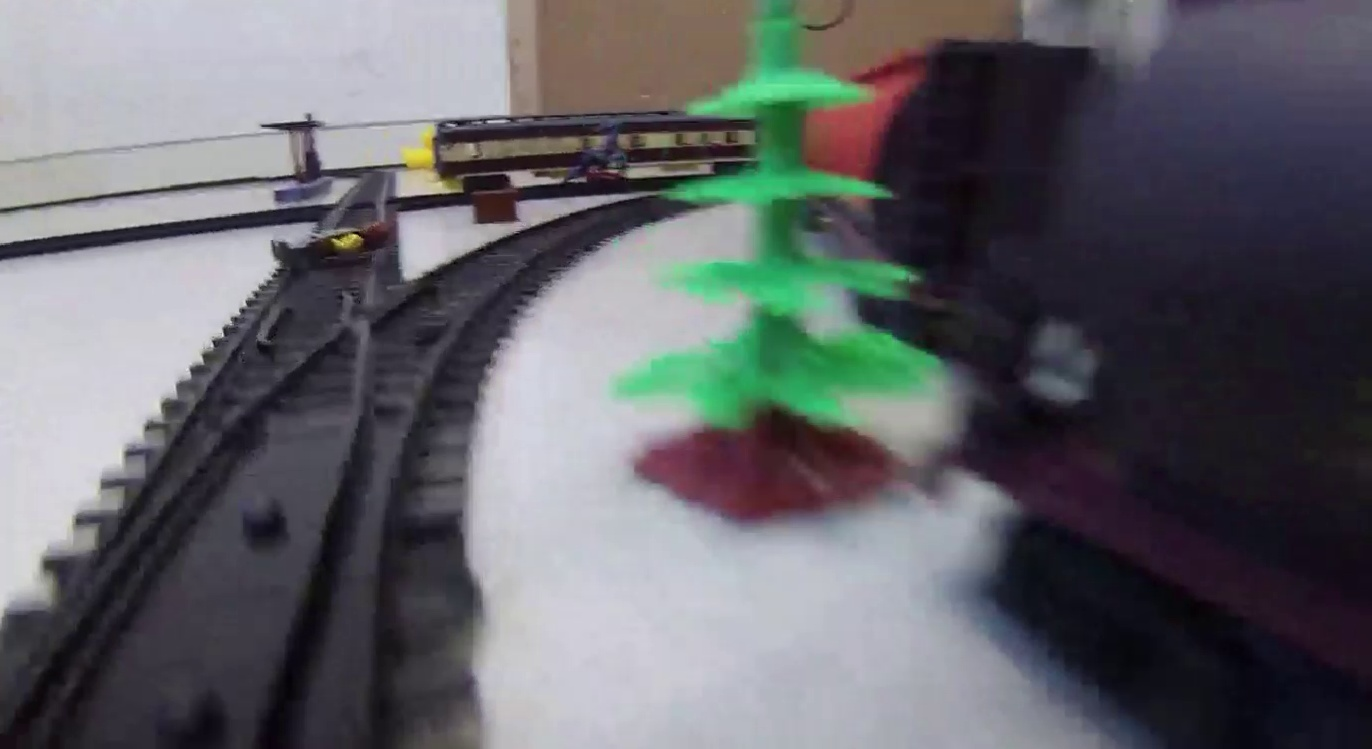box: (472, 187, 522, 225)
people: (269, 217, 398, 266)
tree: (621, 4, 945, 526)
